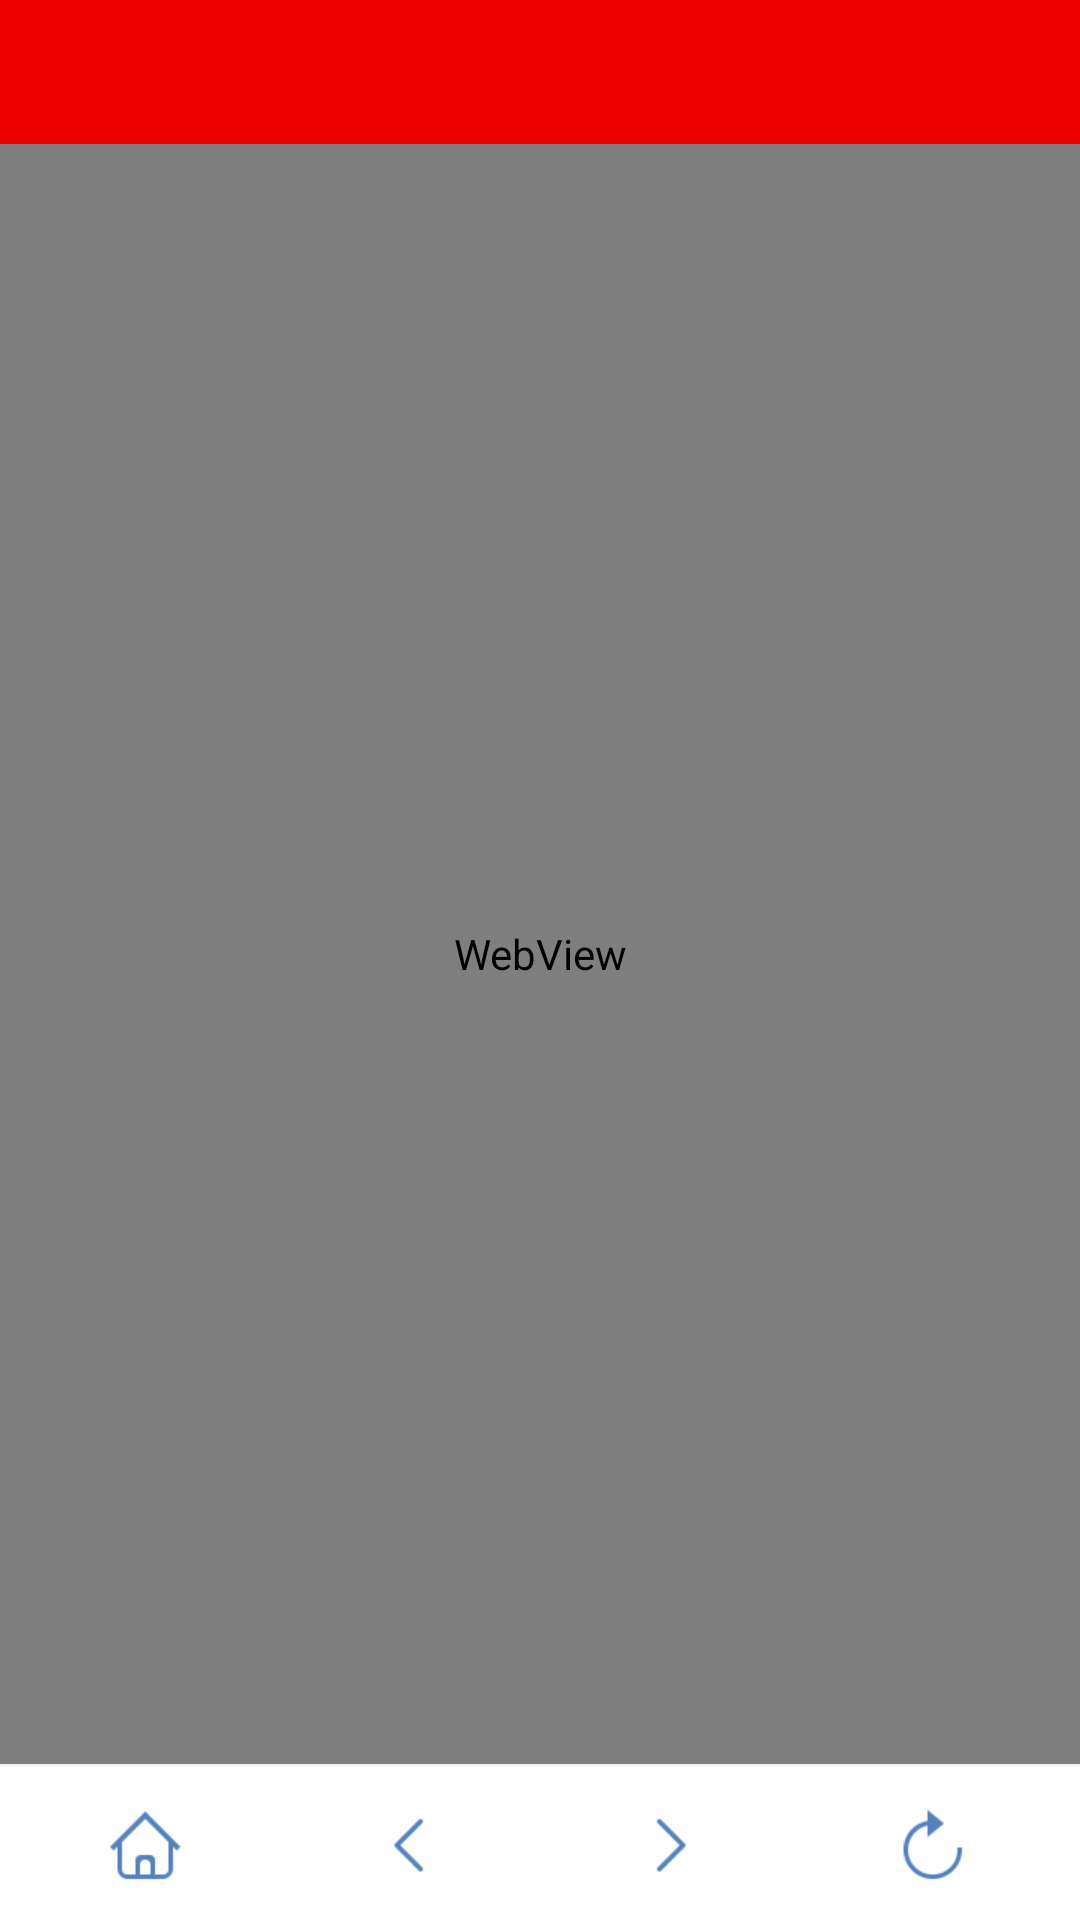

Named icons in this screenshot (1080px x 1920px) and their bounding boxes, (x1, y1, x2, y2):
brower back: (394, 1818, 424, 1872)
brower forward: (656, 1818, 686, 1872)
brower home: (110, 1811, 181, 1880)
brower refresh: (903, 1810, 963, 1880)
